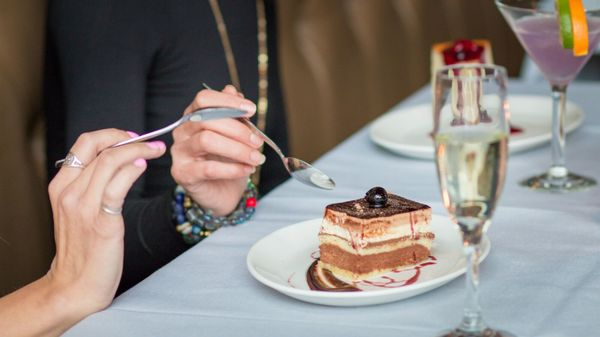soup: (313, 185, 436, 290)
